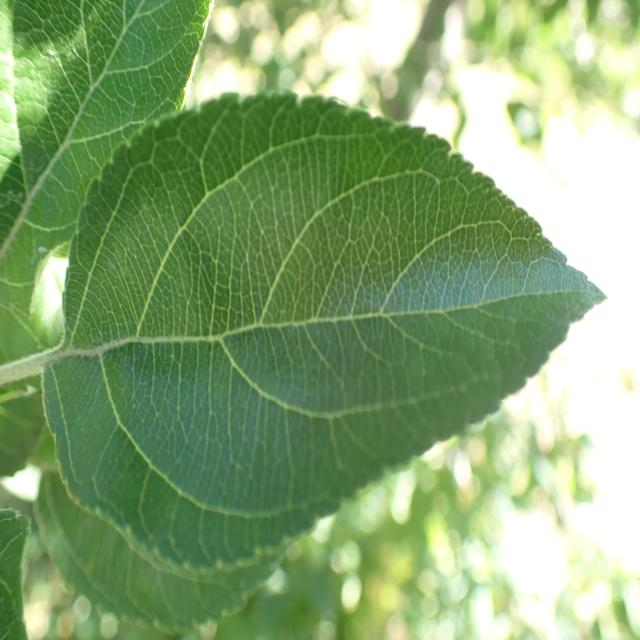healthy: (41, 89, 608, 575), (0, 0, 214, 382), (35, 472, 286, 634), (0, 509, 32, 639)
